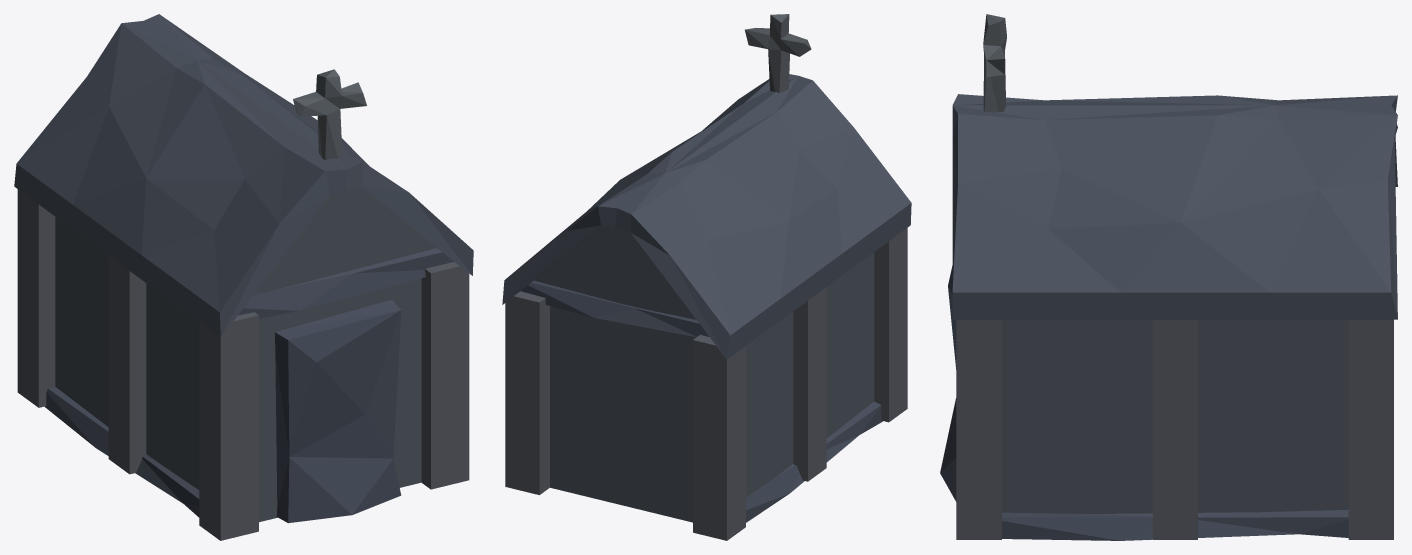
The model's file is crypt.fbx.
3 renders of one model, left to right at view 1: azimuth 30°, elevation 25°; view 2: azimuth 150°, elevation 25°; view 3: azimuth 270°, elevation 25°, orthographic. The views are drawn at different scales.
Visible parts, largest first — view 1: crypt; view 2: crypt; view 3: crypt.
Boxes of the visible parts, x1,y1,x2,y2 form: crypt: [14, 14, 473, 540]; crypt: [502, 14, 911, 540]; crypt: [940, 14, 1397, 540].
Bounding box in the file's own units: 5.9 × 9.48 × 8.54.
